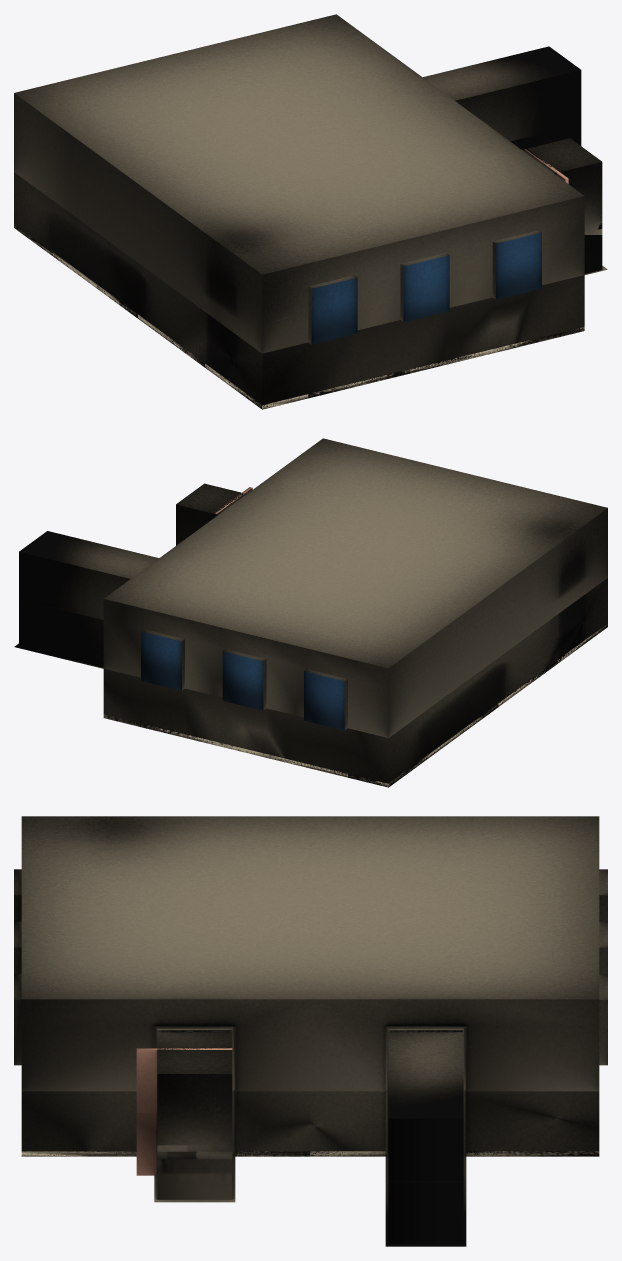
File: room.fbx
3 views of the same model, one above another, from view 1: azimuth 30°, elevation 25°; view 2: azimuth 150°, elevation 25°; view 3: azimuth 270°, elevation 25° (orthographic). The views are drawn at different scales.
Visible parts, largest first — view 1: room, ceiling; view 2: room, ceiling; view 3: ceiling, room, safe.
Boxes of the visible parts, box(x1,y1,x2,y2) form: room: box(14, 70, 607, 409); ceiling: box(14, 14, 601, 274); room: box(14, 504, 607, 787); ceiling: box(19, 438, 607, 668); ceiling: box(21, 816, 599, 1118); room: box(14, 869, 607, 1246); safe: box(136, 1048, 232, 1175).
Size of the model in its own units: 8.95 by 2.4 by 8.22.
